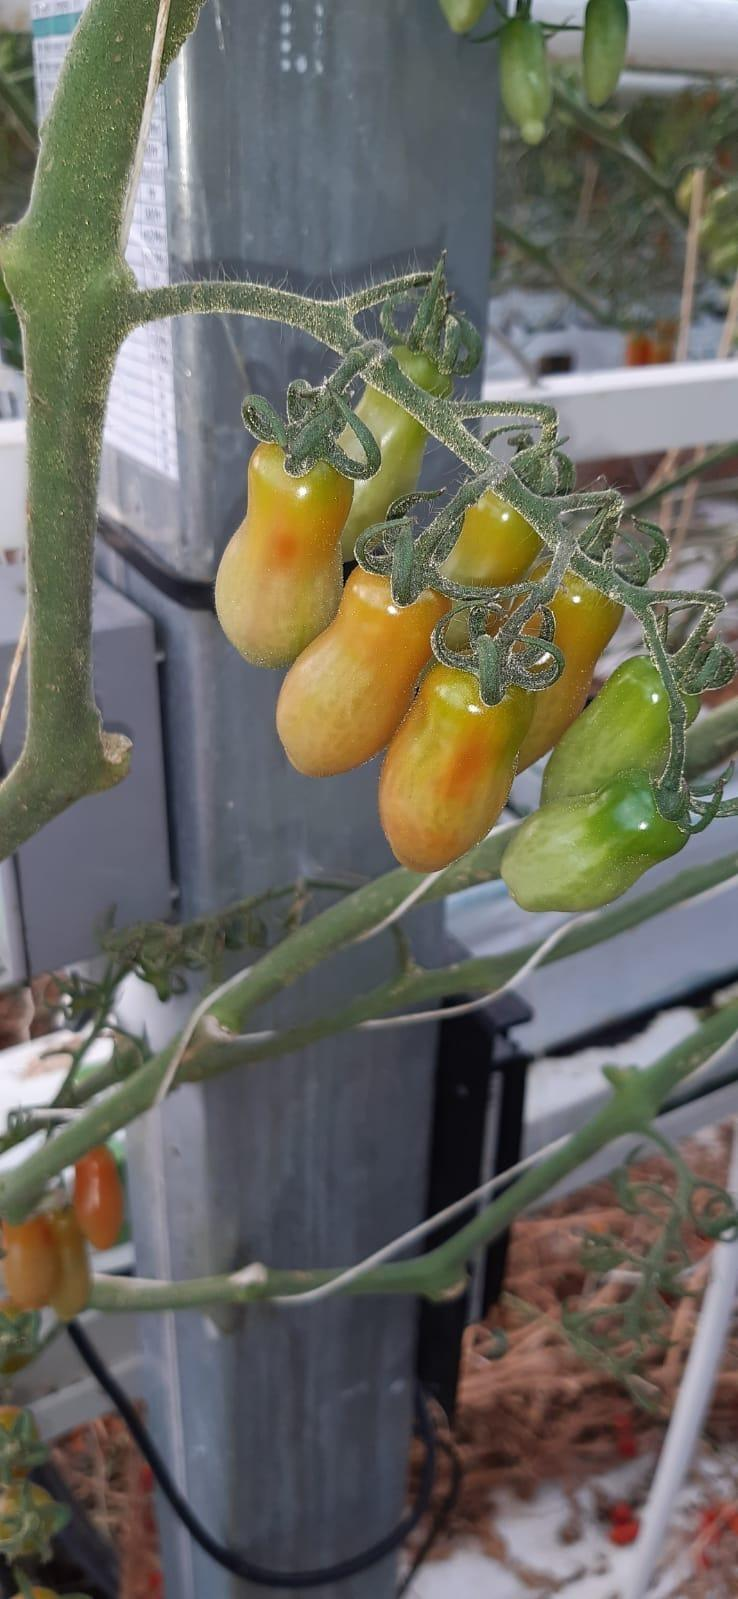Rugose stem: (0, 0, 172, 799), (131, 281, 369, 353), (372, 356, 498, 475)
Rugose tomato: (275, 574, 451, 785), (377, 663, 536, 873), (213, 441, 352, 668), (500, 771, 686, 912), (540, 655, 669, 805)
